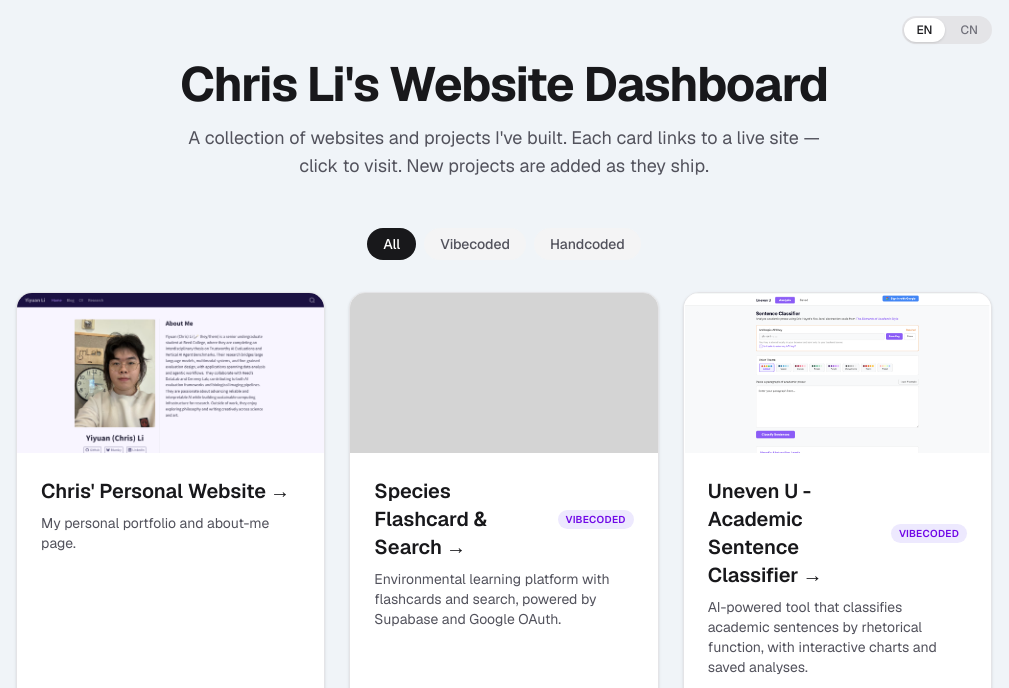
Scenario: Filtering › filters to only vibecoded sites
Click the button "Vibecoded": (475, 244) [424,228,526,260]
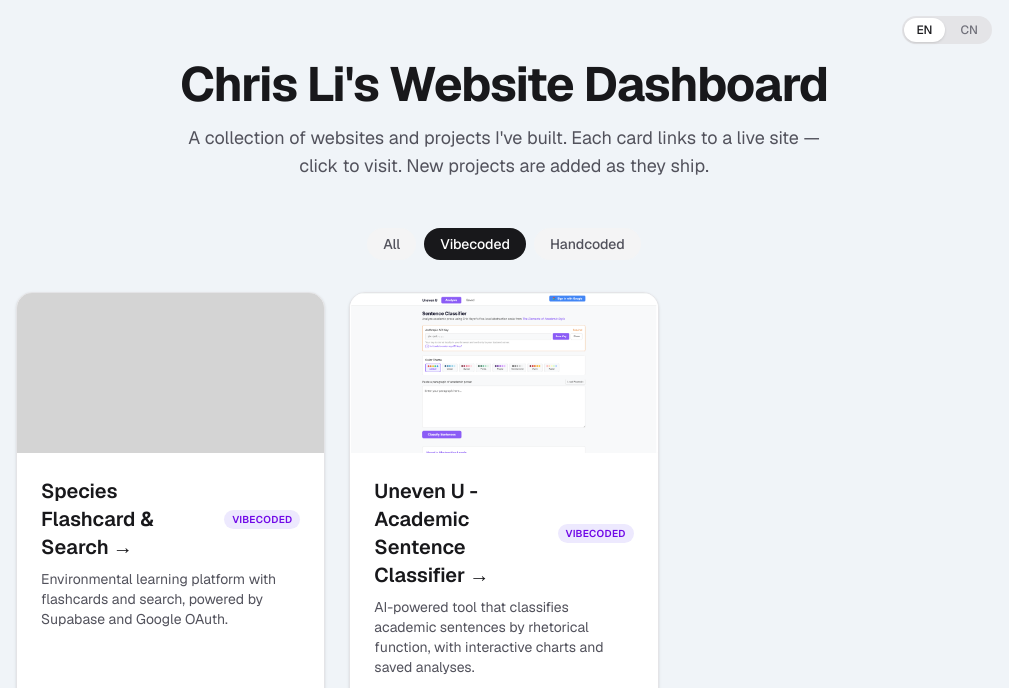
Expected: the heading "Species Flashcard & Search →" is shown, [41,478,154,560]
Expected: the link "Chris' Personal Website" is gone
